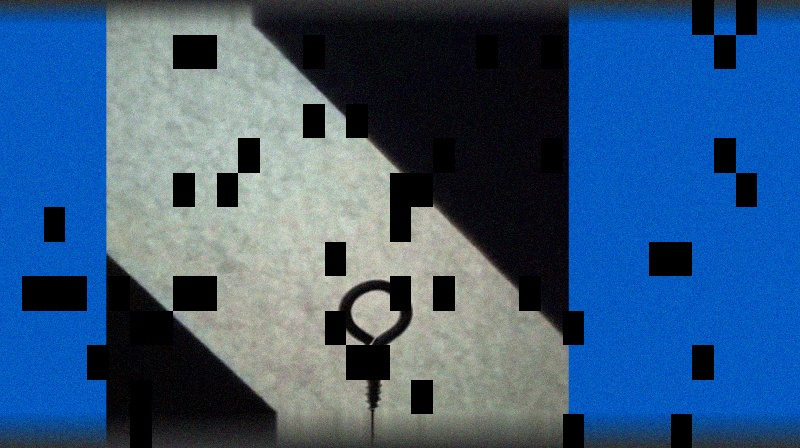O001: (335, 278, 413, 414)
